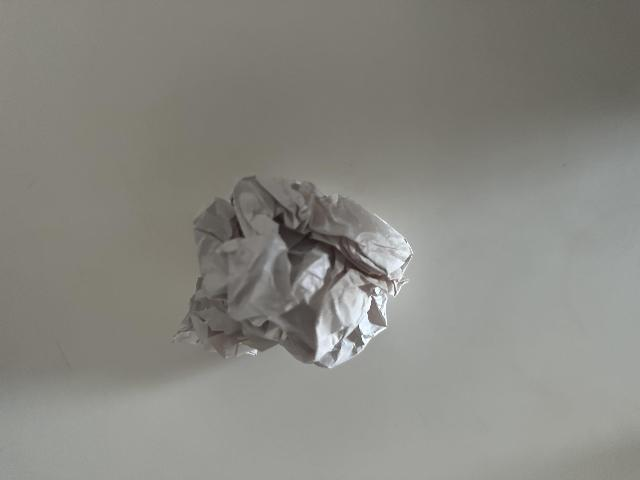Kagit: (170, 173, 414, 371)
